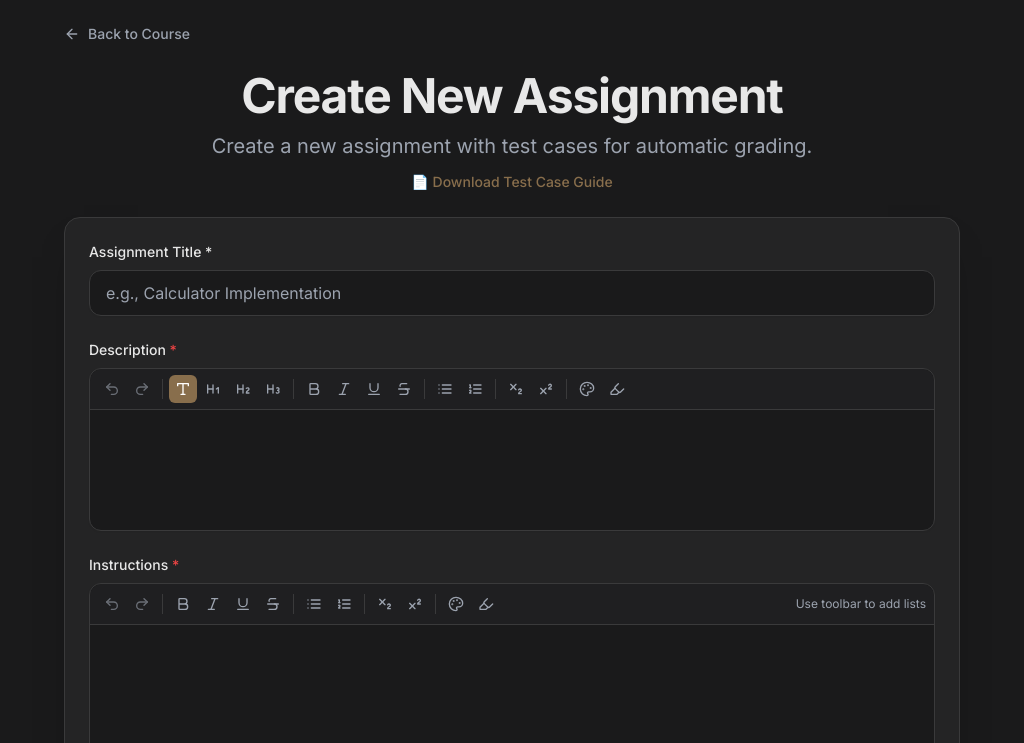
Test: CreateAssignmentPage › validates empty test cases
Expected: the heading "Create New Assignment" is shown, [241,66,783,125]
Type "Test Assignment" into the field labelled "Assignment Title *".
click(512, 293); type("Test Assignment")  # box [89,270,935,316]
(page scrolled)
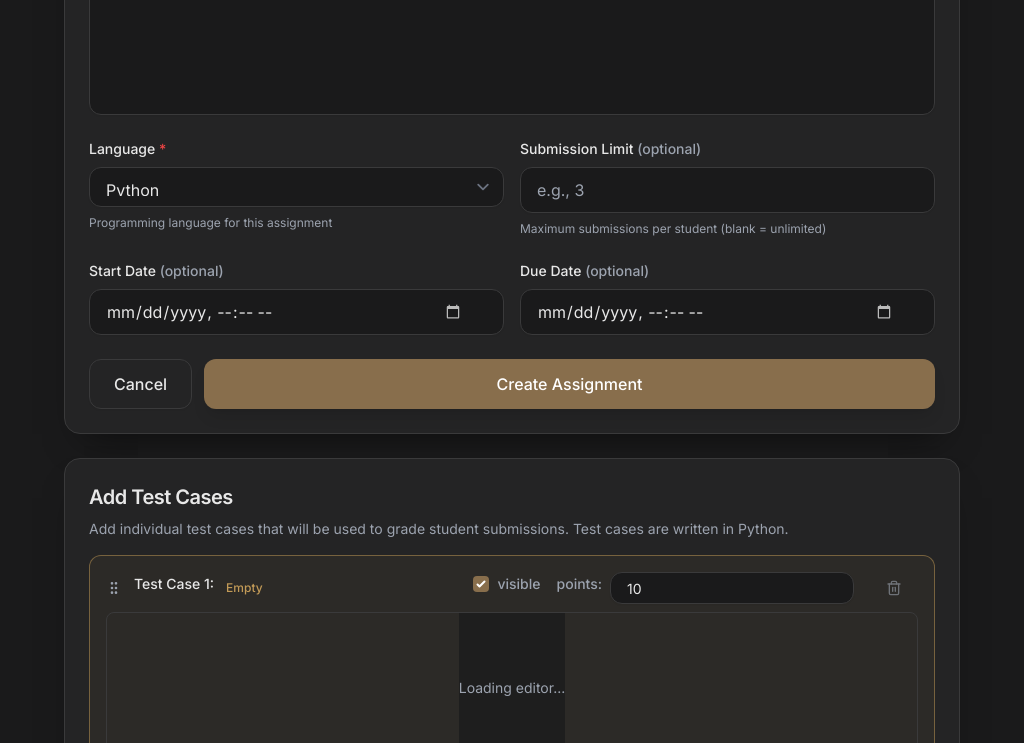
Click the button "Create Assignment".
click(570, 384)  # box [204,359,935,409]
(page scrolled)
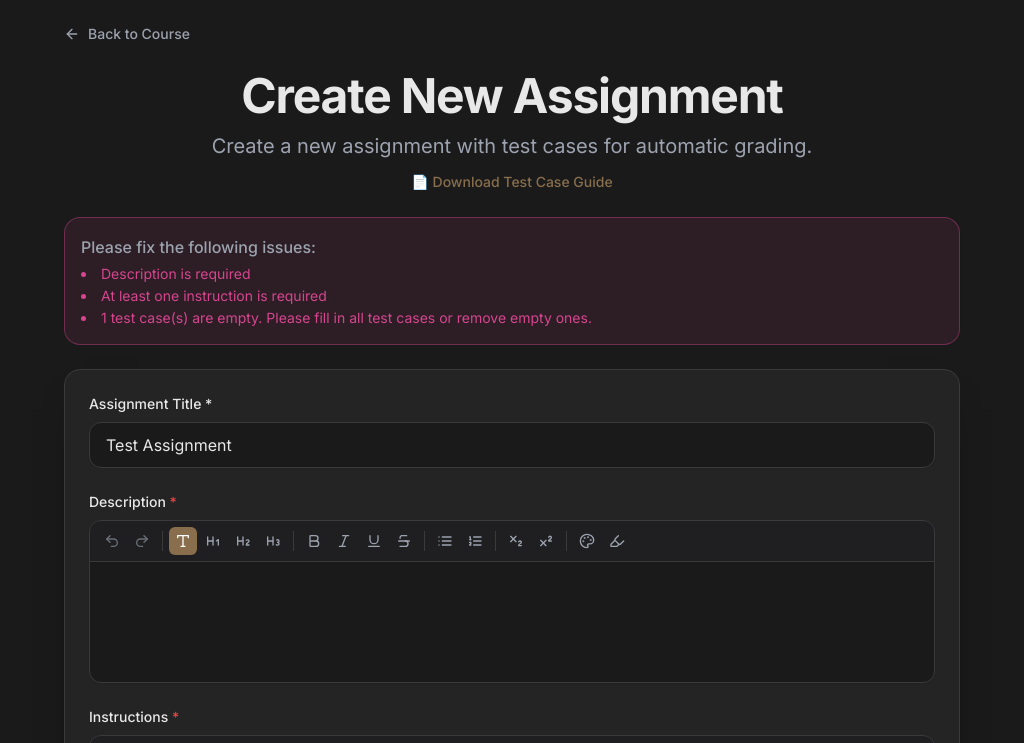
Expected: the list item "test case(s) are empty" is shown, [101,309,592,326]
